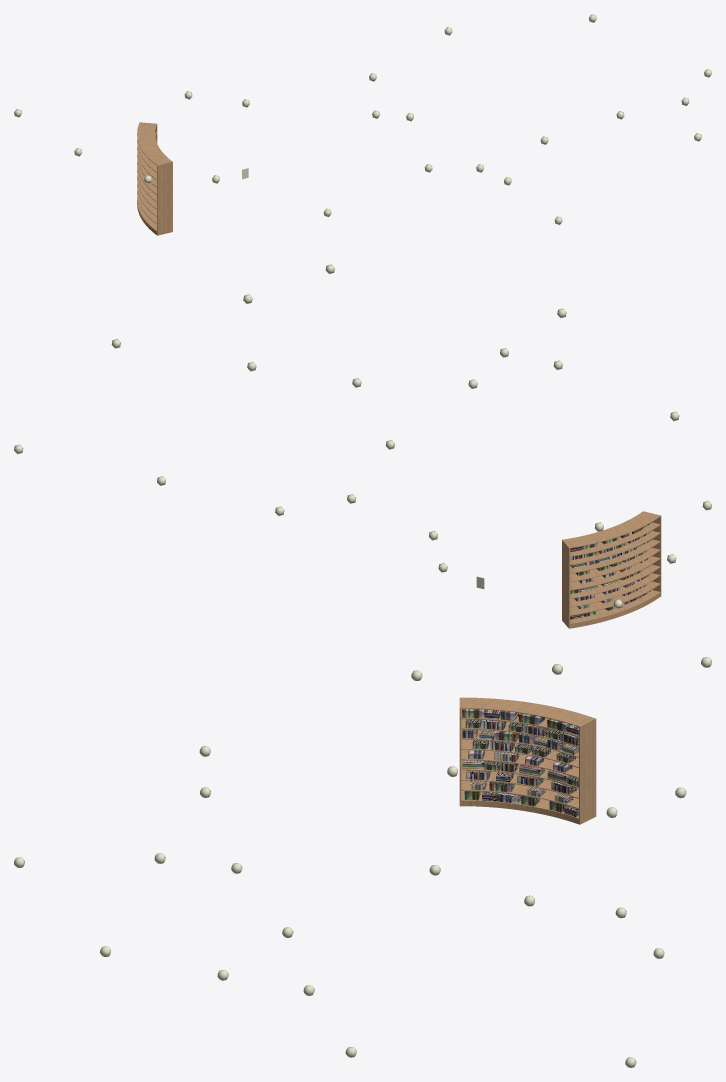
The model's file is 园书架.fbx.
The picture shows the model from 3 angles, top to bottom: view 1: azimuth 30°, elevation 25°; view 2: azimuth 150°, elevation 25°; view 3: azimuth 270°, elevation 25°; orthographic projection. The views are drawn at different scales.
Parts seen in each view (by area): view 1: Mesh71; view 2: Mesh71; view 3: Mesh71.
Part boxes in pixels (x1,y1,x2,y2): Mesh71: [137, 122, 172, 235]; Mesh71: [562, 511, 661, 628]; Mesh71: [459, 697, 596, 824].
Size of the model in its own units: 861 by 135 by 654.
